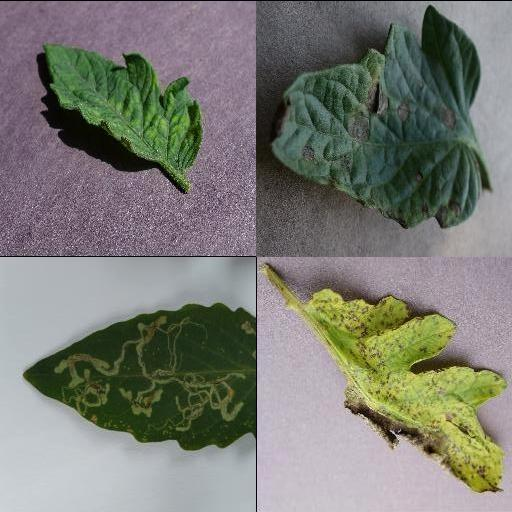Early Blight: (269, 6, 481, 228)
Leaf Miner: (22, 300, 254, 452)
Mosaic Virus: (41, 43, 203, 173)
Septoria: (305, 287, 507, 494)
